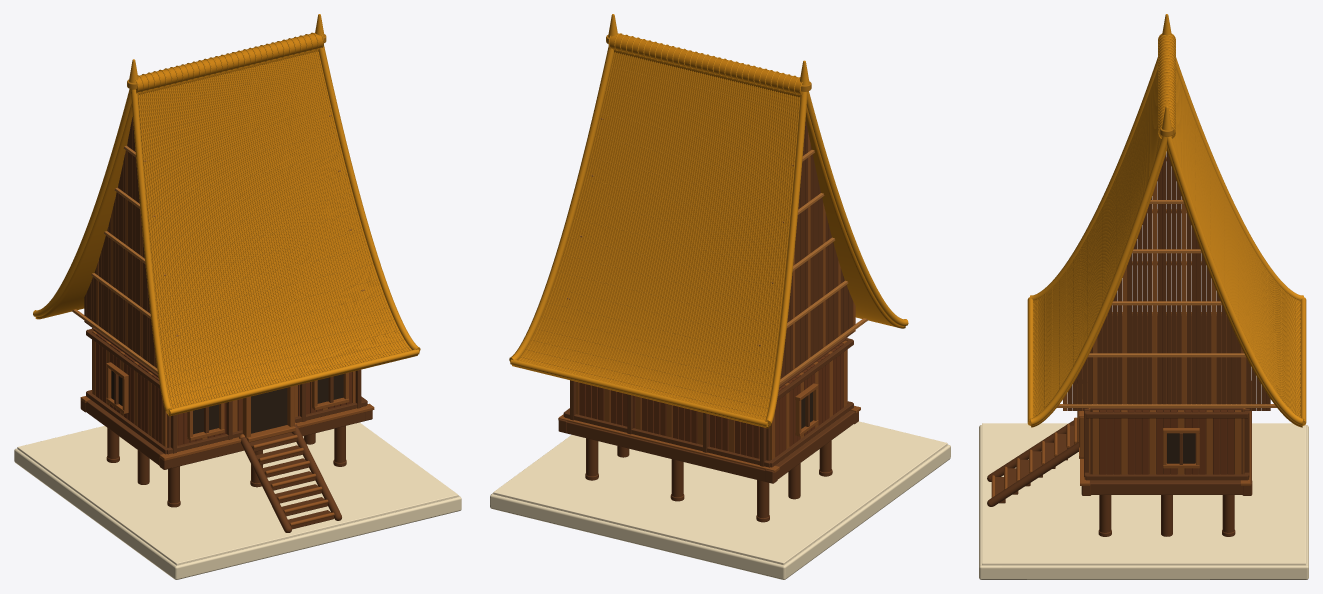
The model's file is kon-tum.glb.
The picture shows the model from 3 angles, left to right: view 1: azimuth 30°, elevation 25°; view 2: azimuth 150°, elevation 25°; view 3: azimuth 270°, elevation 25°; orthographic projection. The views are drawn at different scales.
Parts seen in each view (by area): view 1: NHA_RONG_KON_KLOR_V2; view 2: NHA_RONG_KON_KLOR_V2; view 3: NHA_RONG_KON_KLOR_V2.
Part boxes in pixels (bbox=[...]): NHA_RONG_KON_KLOR_V2: bbox=[14, 14, 461, 579]; NHA_RONG_KON_KLOR_V2: bbox=[490, 14, 950, 579]; NHA_RONG_KON_KLOR_V2: bbox=[979, 14, 1308, 579].
Bounding box in the file's own units: 1.14 × 1.68 × 1.12.
